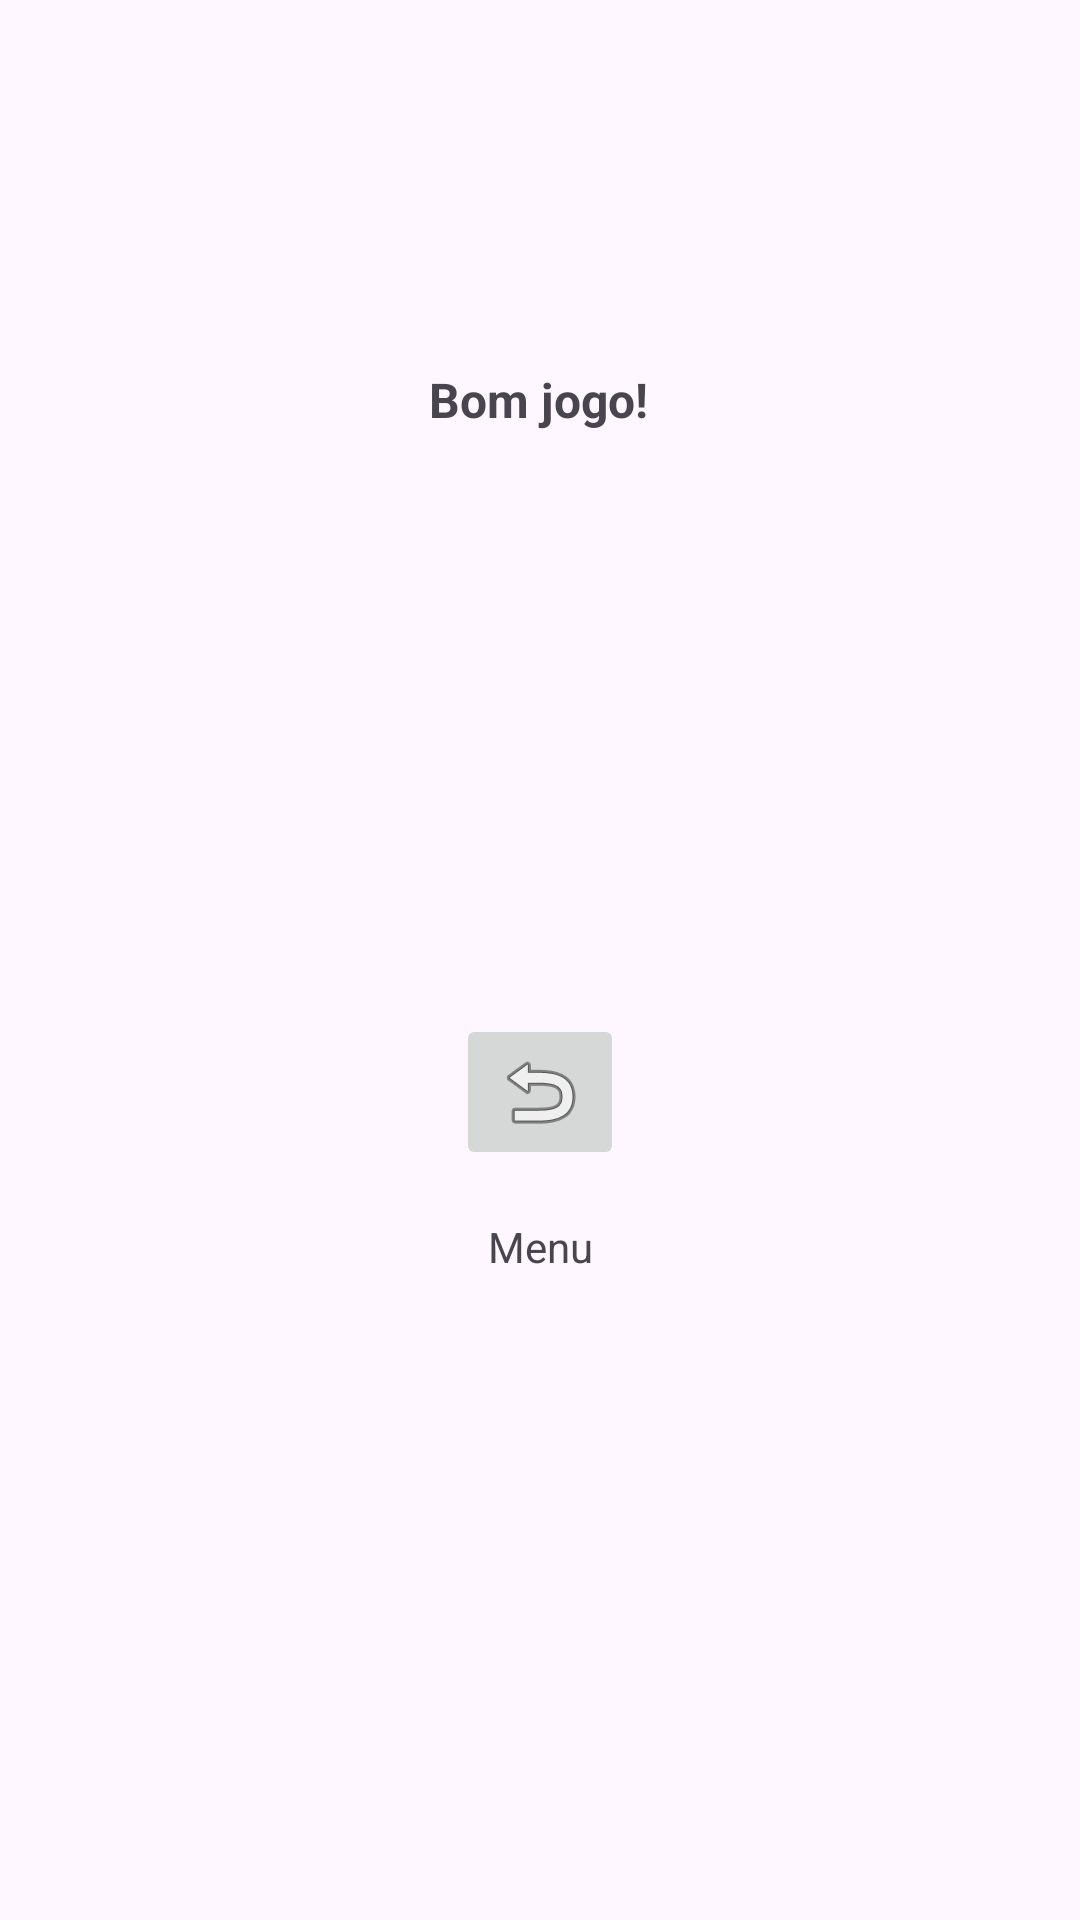

Named icons in this screenshot (1080*1920) and their centers, (x=x, y=y):
revert: (x=540, y=1092)
